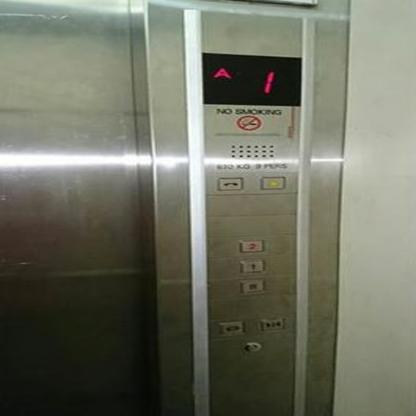1: (237, 258, 264, 272)
2: (238, 238, 265, 253)
alarm: (258, 176, 285, 189)
blur: (238, 278, 266, 292)
call: (216, 177, 244, 190)
close: (257, 316, 285, 330)
keyhole: (242, 342, 260, 352)
led: (200, 51, 302, 107)
open: (217, 320, 245, 335)
